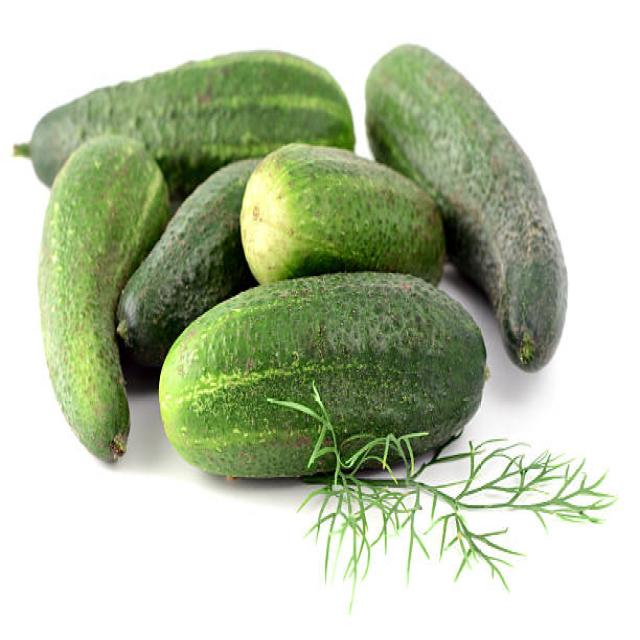cucumber: (159, 275, 488, 483), (366, 45, 567, 372), (37, 134, 169, 459), (239, 141, 445, 290)
